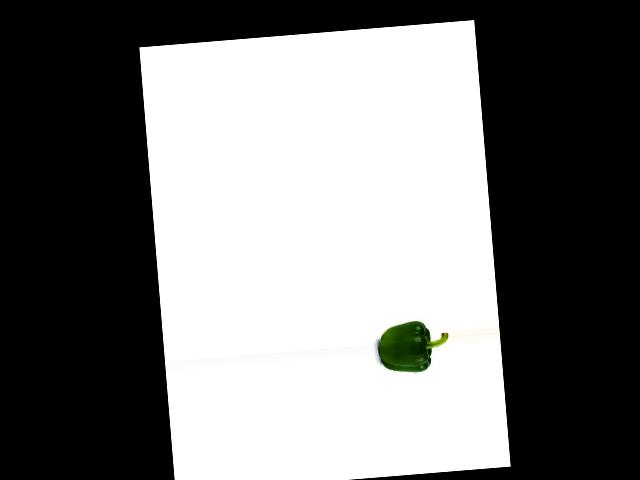bell_pepper: (376, 317, 449, 383)
